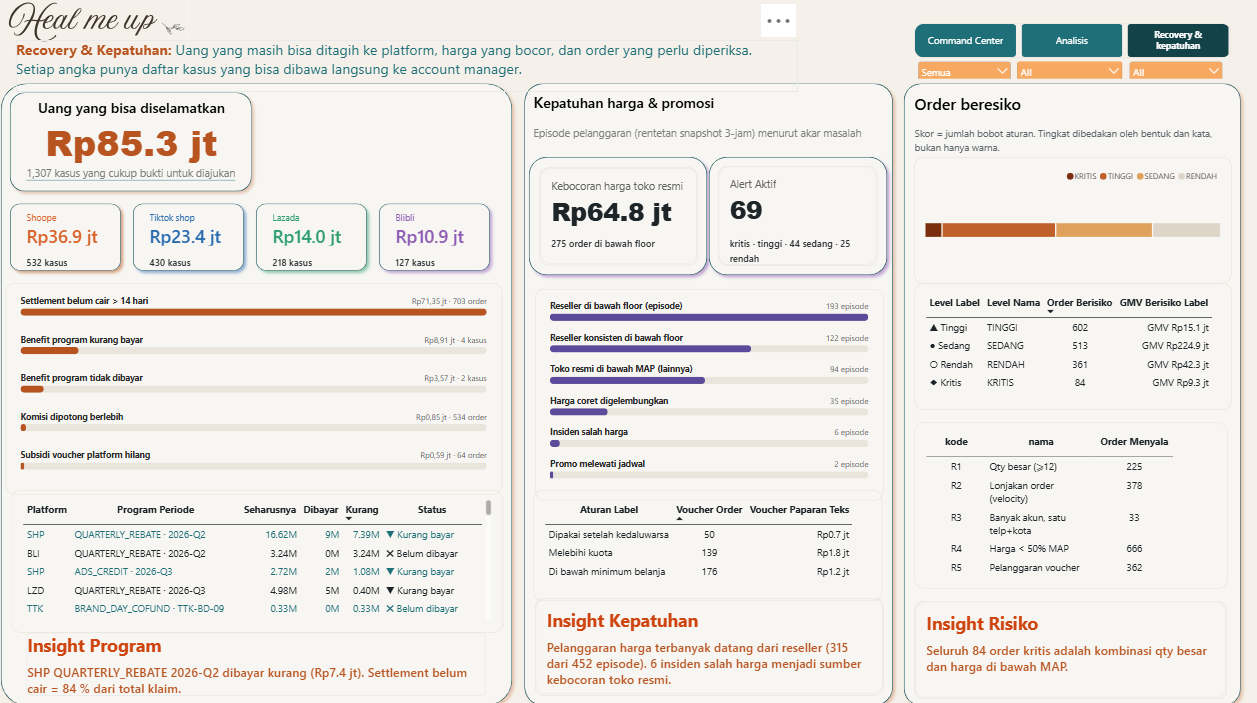

The dashboard page shown, as its layout file describes it:
{"tool":"powerbi","page":{"name":"Recovery & kepatuhan","canvas":[1920,1080],"ordinal":2},"visuals":[{"type":"pageNavigator","box":[1392.5,19.4,479.2,70.4],"z":0,"group":"g2"},{"type":"slicer","fields":{"Values":["PlatSel.label"]},"box":[1391.6,88.6,151.2,31.8],"z":0,"group":"g1"},{"type":"shape","title":"Shape net gmv linechart''","box":[792,120,576,960],"z":0,"group":"g5"},{"type":"shape","title":"shape detail semua platform","box":[1368,120,528,960],"z":0},{"type":"shape","title":"Shape uang kebocoran","box":[14,135,384,168],"z":0,"group":"g3"},{"type":"shape","title":"Shape uang kebocoran","box":[798,231.8,288,196.9],"z":0,"group":"g6"},{"type":"shape","title":"Shape uang kebocoran","box":[14,302,186,120],"z":0,"group":"g4"},{"type":"group","id":"g1","title":"Group 6","box":[1391.6,88.6,472.4,31.8],"z":1000,"group":"g2"},{"type":"slicer","title":"Slicer filter kategori","fields":{"Values":["DimSKU.sub_category"]},"box":[1542.8,88.6,170.1,31.8],"z":1000,"group":"g1"},{"type":"shape","title":"Shape bar chart","box":[0,120,792,960],"z":1000},{"type":"cardVisual","title":"Uang yang bisa diselamatkan","fields":{"Data":["_measure_recovery&kepatuhan.Klaim Rp Ringkas"]},"box":[38,153,336,120],"z":1000,"group":"g3"},{"type":"shape","title":"Shape uang kebocoran","box":[1071,231.8,288,196.9],"z":1000,"group":"g6"},{"type":"shape","title":"Shape uang kebocoran","box":[200,302,186,120],"z":1000,"group":"g4"},{"type":"cardVisual","fields":{"Data":["Ads.Insight Kepatuhan"]},"box":[816,907.7,528,147.7],"z":1000,"group":"g5"},{"type":"slicer","title":"Slicer filter bulan","fields":{"Values":["DimMonth.month_start"]},"box":[1712.9,88.6,151.2,31.8],"z":2000,"group":"g1"},{"type":"textbox","box":[14,255,384,48],"z":2000,"group":"g3"},{"type":"cardVisual","fields":{"Data":["Ads.Bocor Rp Ringkas"]},"box":[822,256.4,240,147.7],"z":2000,"group":"g6"},{"type":"shape","title":"Shape uang kebocoran","box":[386,302,186,120],"z":2000,"group":"g4"},{"type":"cardVisual","fields":{"Data":["_measure_recovery&kepatuhan.Insight Risiko"]},"box":[1392.9,913.2,473.6,148.5],"z":2000},{"type":"group","id":"g2","title":"Group 3","box":[1391.6,19.4,480.1,101],"z":3000},{"type":"cardVisual","fields":{"Data":["Ads.Alert Aktif"]},"box":[1094.1,253.6,241.6,151.6],"z":3000,"group":"g6"},{"type":"shape","title":"Shape uang kebocoran","box":[572,302,186,120],"z":3000,"group":"g4"},{"type":"image","title":"Judul","box":[0,0,304,80],"z":4000},{"type":"cardVisual","fields":{"Data":["_measure_recovery&kepatuhan.Klaim Rp Ringkas"]},"box":[32.6,326,148.8,96],"z":4000,"group":"g4"},{"type":"cardVisual","fields":{"Data":["_measure_recovery&kepatuhan.Klaim Rp Ringkas"]},"box":[218.6,326,148.8,96],"z":5000,"group":"g4"},{"type":"cardVisual","title":"Card region insight","fields":{"Data":["_measure_recovery&kepatuhan.Insight Program"]},"box":[48,960,696,96],"z":5000},{"type":"group","id":"g3","title":"Group 1","box":[14,135,384,168],"z":6000},{"type":"cardVisual","fields":{"Data":["_measure_recovery&kepatuhan.Klaim Rp Ringkas"]},"box":[404.6,326,148.8,96],"z":6000,"group":"g4"},{"type":"group","id":"g4","title":"Group 5","box":[14,302,744,120],"z":7000},{"type":"cardVisual","fields":{"Data":["_measure_recovery&kepatuhan.Klaim Rp Ringkas"]},"box":[590.6,326,148.8,96],"z":7000,"group":"g4"},{"type":"deneb7E15AEF80B9E4D4F8E12924291ECE89A","fields":{"dataset":["AppealPack.Kategori Label","_measure_recovery&kepatuhan.Klaim Rp","_measure_recovery&kepatuhan.Klaim Kasus"]},"box":[16,432,752,320],"z":8000},{"type":"tableEx","fields":{"Values":["ProgramRecon.platform_code","ProgramRecon.Program Periode","_measure_recovery&kepatuhan.Prog Seharusnya","_measure_recovery&kepatuhan.Prog Dibayar","_measure_recovery&kepatuhan.Prog Kurang Klaim","_measure_recovery&kepatuhan.Prog Status Teks"]},"box":[24,744,744,216],"z":9000},{"type":"group","id":"g5","title":"Group 7","box":[792,120,576,960],"z":10000},{"type":"deneb7E15AEF80B9E4D4F8E12924291ECE89A","fields":{"dataset":["PriceEpisodes.Akar Masalah","_measure_recovery&kepatuhan.Episode"]},"box":[816,440,528,320],"z":10001,"group":"g5"},{"type":"group","id":"g6","title":"Group 2","box":[798,231.8,561,196.9],"z":10506,"group":"g5"},{"type":"textbox","title":"text box sub judul","box":[32,64,1184,80],"z":11000},{"type":"tableEx","fields":{"Values":["VoucherViolations.Aturan Label","Ads.Voucher Order","Ads.Voucher Paparan Teks"]},"box":[816,744,528,168],"z":12000},{"type":"textbox","title":"Text box kepatuhan harga","box":[816,141,528,96],"z":13000},{"type":"textbox","title":"Text box kepatuhan harga","box":[1392,144,480,96],"z":14000},{"type":"hundredPercentStackedBarChart","fields":{"Series":["Suspicious.Level Nama"],"Y":["Ads.Order Berisiko"]},"box":[1392,240,480,192],"z":15000},{"type":"tableEx","fields":{"Values":["Suspicious.Level Label","Suspicious.Level Nama","Ads.Order Berisiko","_measure_recovery&kepatuhan.GMV Berisiko Label"]},"box":[1392,432,480,192],"z":16000},{"type":"tableEx","fields":{"Values":["Aturan.kode","Aturan.nama","_measure_recovery&kepatuhan.Order Menyala"]},"box":[1392.6,641.9,473.7,251.1],"z":17000}]}

Visuals, with their boxes in screenshot pixels (x1, y1, x2, y2), scaled from the page's 1920x1080 canvas onto the 1257x703 screenshot:
pageNavigator: bbox(912, 13, 1225, 58)
slicer - PlatSel.label: bbox(911, 58, 1010, 78)
"Shape net gmv linechart''" shape: bbox(519, 78, 896, 702)
"shape detail semua platform" shape: bbox(896, 78, 1241, 702)
"Shape uang kebocoran" shape: bbox(9, 88, 261, 197)
"Shape uang kebocoran" shape: bbox(522, 151, 711, 279)
"Shape uang kebocoran" shape: bbox(9, 197, 131, 275)
"Group 6" group: bbox(911, 58, 1220, 78)
"Slicer filter kategori" slicer: bbox(1010, 58, 1121, 78)
"Shape bar chart" shape: bbox(0, 78, 519, 702)
"Uang yang bisa diselamatkan" cardVisual: bbox(25, 100, 245, 178)
"Shape uang kebocoran" shape: bbox(701, 151, 890, 279)
"Shape uang kebocoran" shape: bbox(131, 197, 253, 275)
cardVisual - Ads.Insight Kepatuhan: bbox(534, 591, 880, 687)
"Slicer filter bulan" slicer: bbox(1121, 58, 1220, 78)
textbox: bbox(9, 166, 261, 197)
cardVisual - Ads.Bocor Rp Ringkas: bbox(538, 167, 695, 263)
"Shape uang kebocoran" shape: bbox(253, 197, 374, 275)
cardVisual - _measure_recovery&kepatuhan.Insight Risiko: bbox(912, 594, 1222, 691)
"Group 3" group: bbox(911, 13, 1225, 78)
cardVisual - Ads.Alert Aktif: bbox(716, 165, 874, 264)
"Shape uang kebocoran" shape: bbox(374, 197, 496, 275)
"Judul" image: bbox(0, 0, 199, 52)
cardVisual - _measure_recovery&kepatuhan.Klaim Rp Ringkas: bbox(21, 212, 119, 275)
cardVisual - _measure_recovery&kepatuhan.Klaim Rp Ringkas: bbox(143, 212, 241, 275)
"Card region insight" cardVisual: bbox(31, 625, 487, 687)
"Group 1" group: bbox(9, 88, 261, 197)
cardVisual - _measure_recovery&kepatuhan.Klaim Rp Ringkas: bbox(265, 212, 362, 275)
"Group 5" group: bbox(9, 197, 496, 275)
cardVisual - _measure_recovery&kepatuhan.Klaim Rp Ringkas: bbox(387, 212, 484, 275)
deneb7E15AEF80B9E4D4F8E12924291ECE89A - AppealPack.Kategori Label x _measure_recovery&kepatuhan.Klaim Rp: bbox(10, 281, 503, 489)
tableEx - ProgramRecon.platform_code x ProgramRecon.Program Periode: bbox(16, 484, 503, 625)
"Group 7" group: bbox(519, 78, 896, 702)
deneb7E15AEF80B9E4D4F8E12924291ECE89A - PriceEpisodes.Akar Masalah x _measure_recovery&kepatuhan.Episode: bbox(534, 286, 880, 495)
"Group 2" group: bbox(522, 151, 890, 279)
"text box sub judul" textbox: bbox(21, 42, 796, 94)
tableEx - VoucherViolations.Aturan Label x Ads.Voucher Order: bbox(534, 484, 880, 594)
"Text box kepatuhan harga" textbox: bbox(534, 92, 880, 154)
"Text box kepatuhan harga" textbox: bbox(911, 94, 1226, 156)
hundredPercentStackedBarChart - Suspicious.Level Nama x Ads.Order Berisiko: bbox(911, 156, 1226, 281)
tableEx - Suspicious.Level Label x Suspicious.Level Nama: bbox(911, 281, 1226, 406)
tableEx - Aturan.kode x Aturan.nama: bbox(912, 418, 1222, 581)
